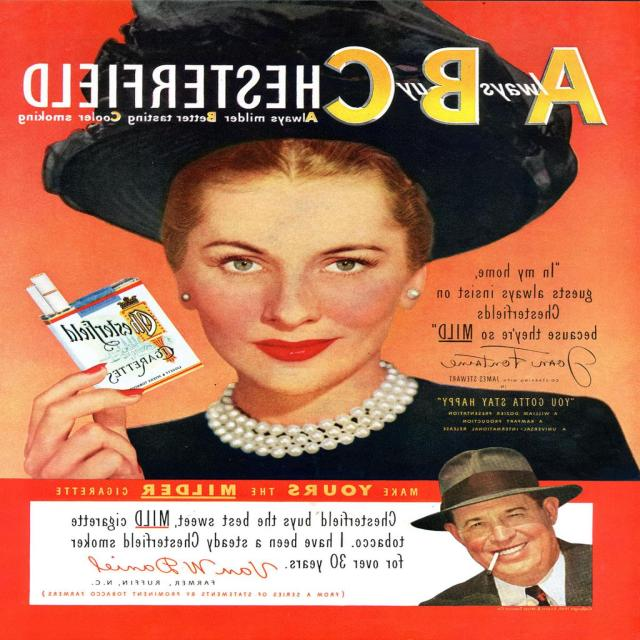smoking: (447, 491, 585, 595)
